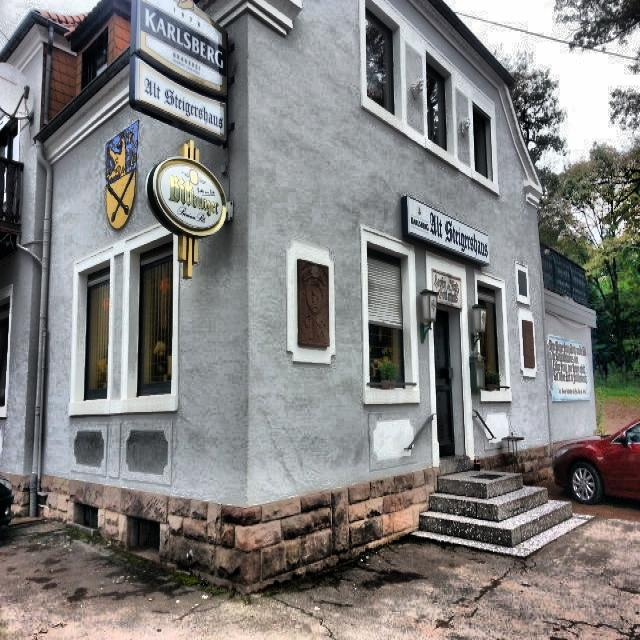escada: (418, 469, 572, 546)
